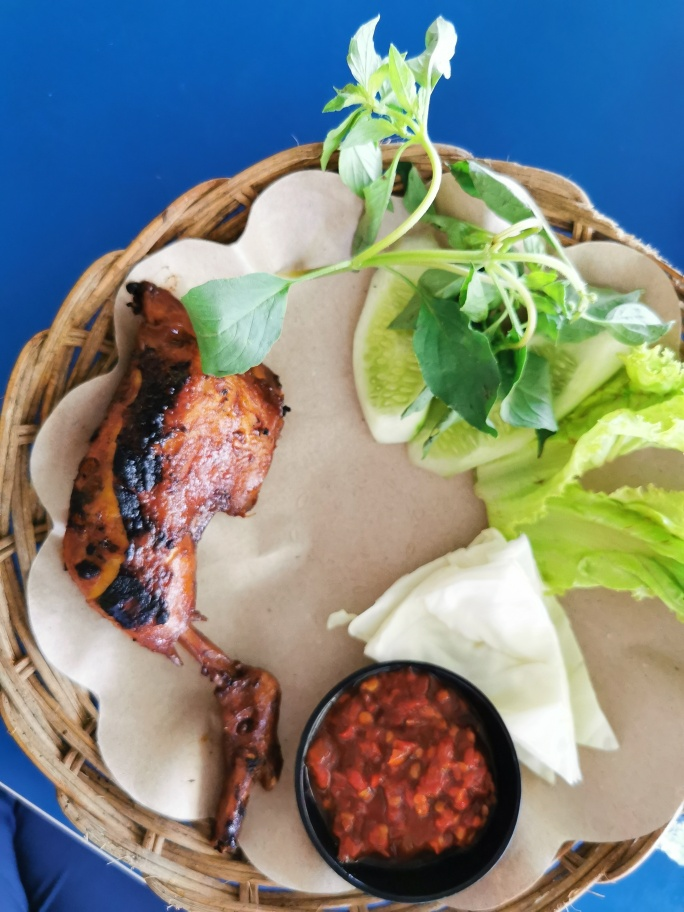ayam bakar: (58, 277, 320, 861)
